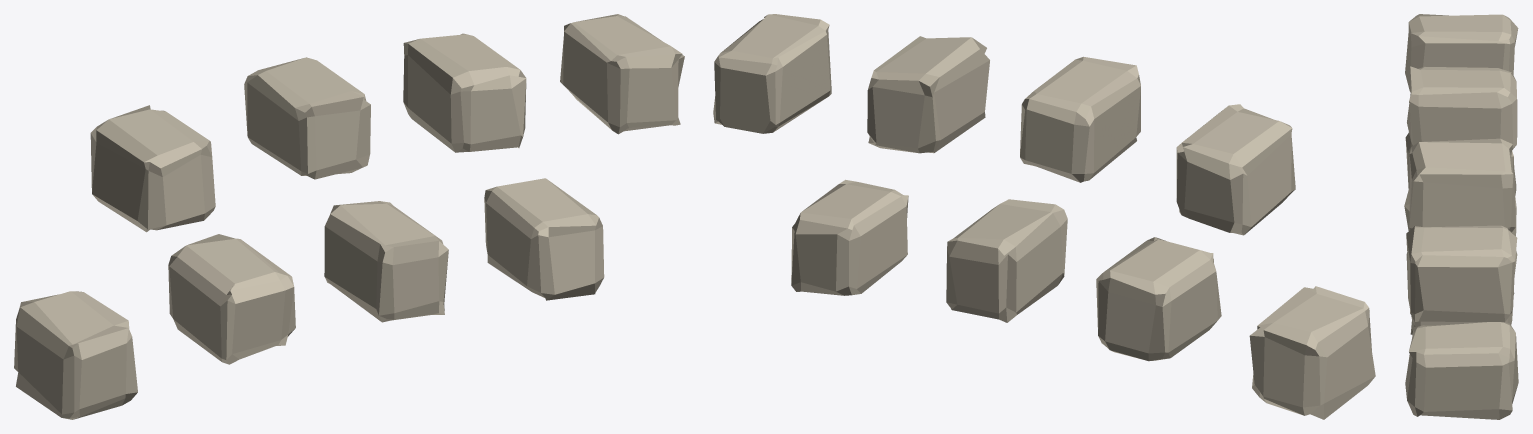
The model's file is sandbag_wall.glb.
The picture shows the model from 3 angles, left to right: view 1: azimuth 30°, elevation 25°; view 2: azimuth 150°, elevation 25°; view 3: azimuth 270°, elevation 25°; orthographic projection. The views are drawn at different scales.
Visible parts, largest first — view 1: sandbag_wall; view 2: sandbag_wall; view 3: sandbag_wall.
Boxes of the visible parts, left/top/right/bottom form: sandbag_wall: left=14, top=14, right=684, bottom=419; sandbag_wall: left=713, top=14, right=1375, bottom=419; sandbag_wall: left=1404, top=14, right=1518, bottom=419.
Bounding box in the file's own units: 1.49 × 0.6007 × 0.2709.
